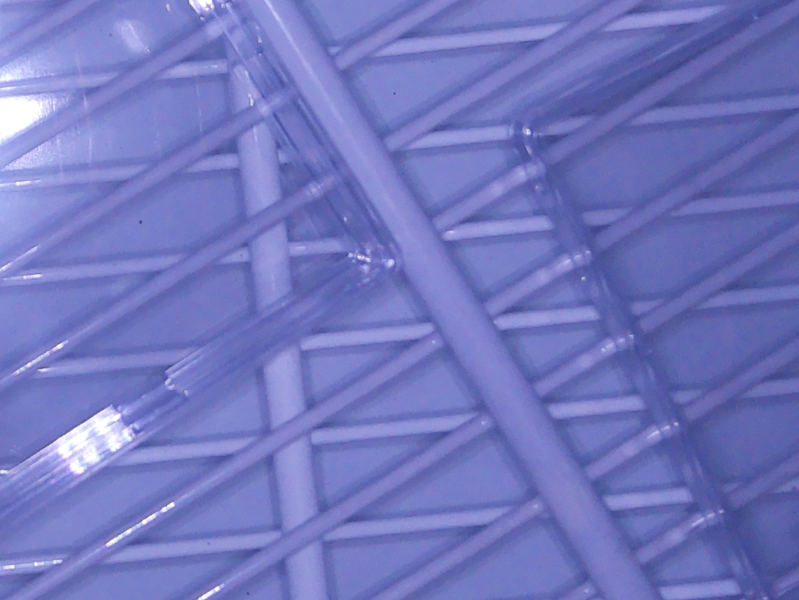plate: (1, 1, 404, 535), (511, 1, 799, 600)
